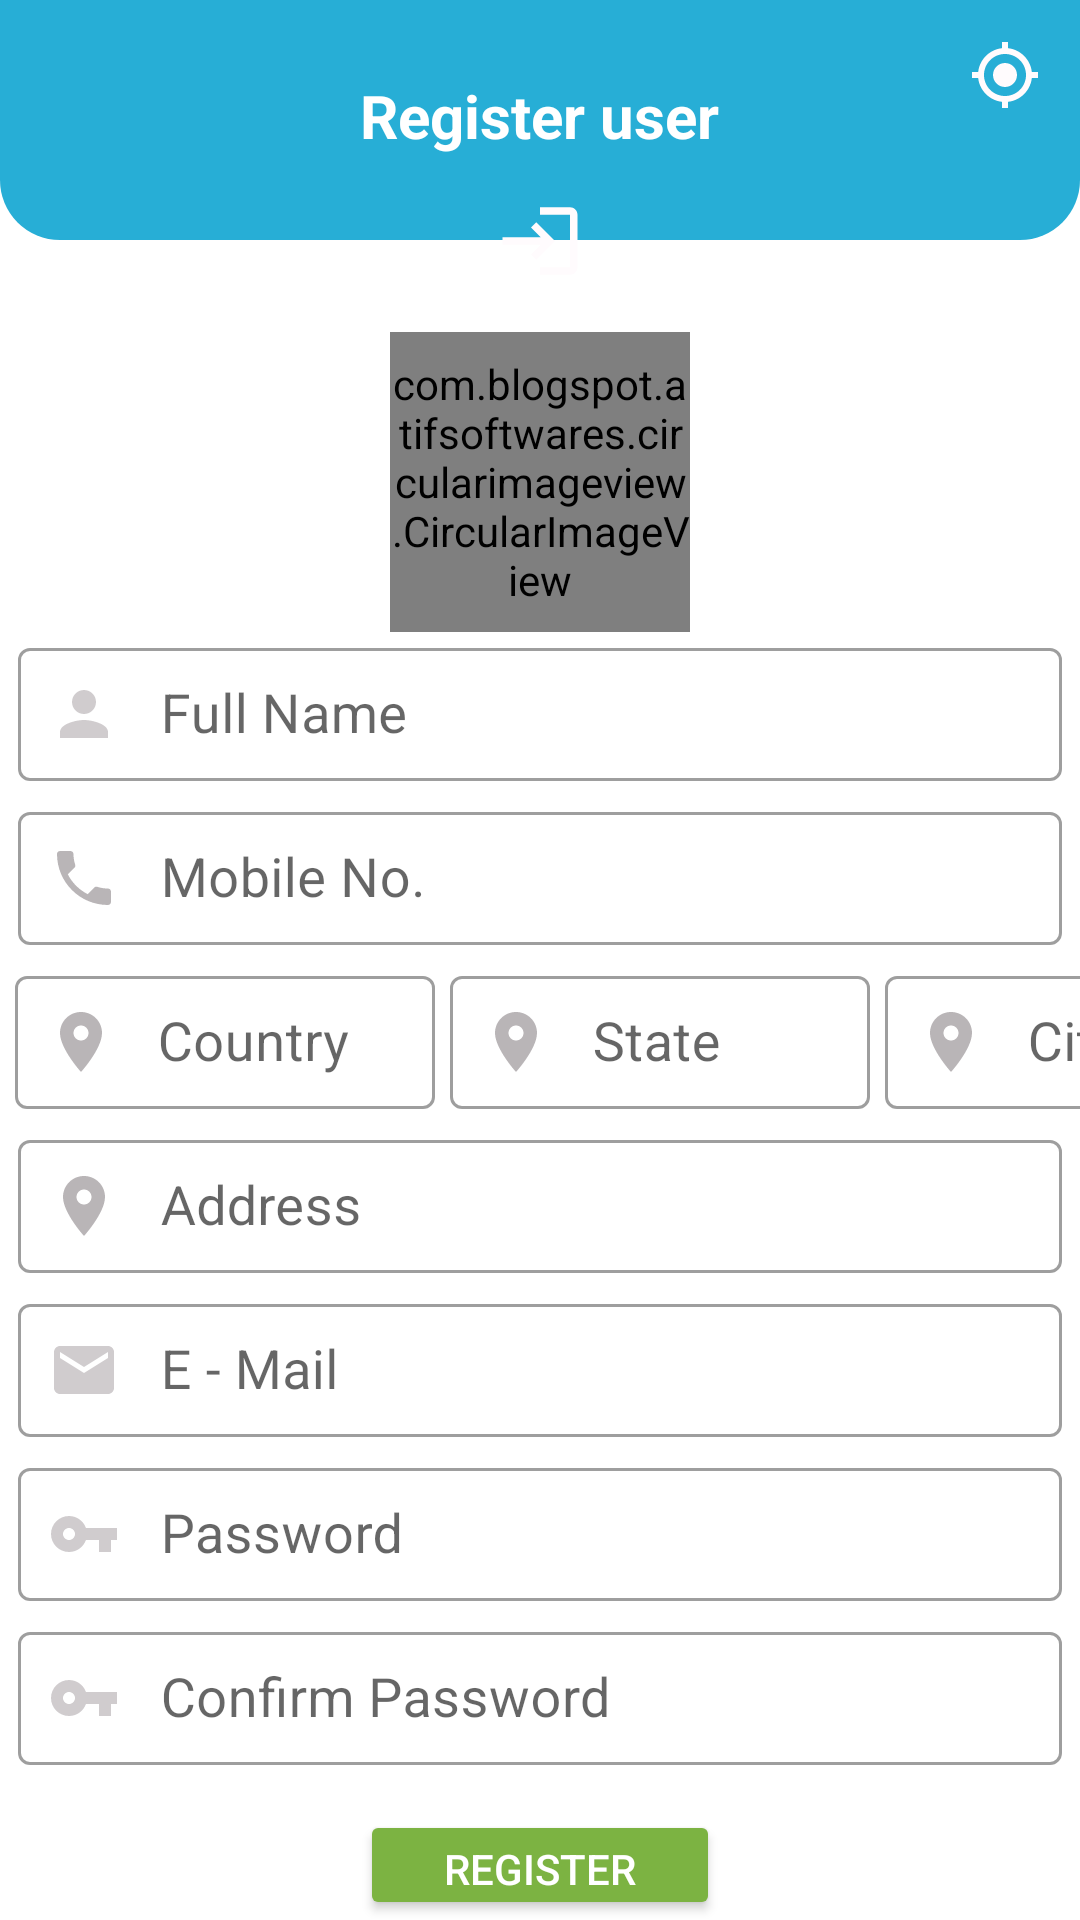

Named icons in this screenshot (1080x1920) and their centers, (x=x, y=y):
login: (x=540, y=241)
